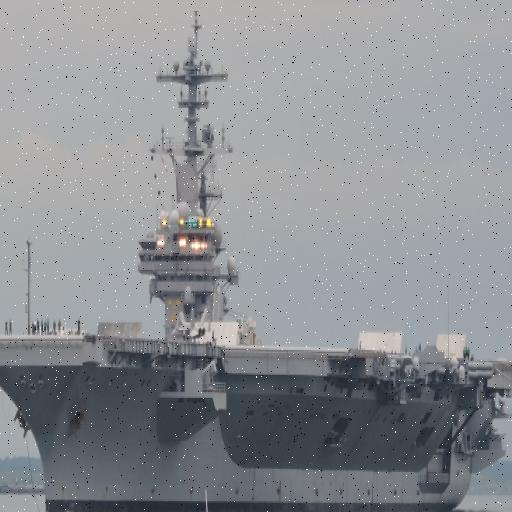Portanaves: (1, 2, 512, 512)
